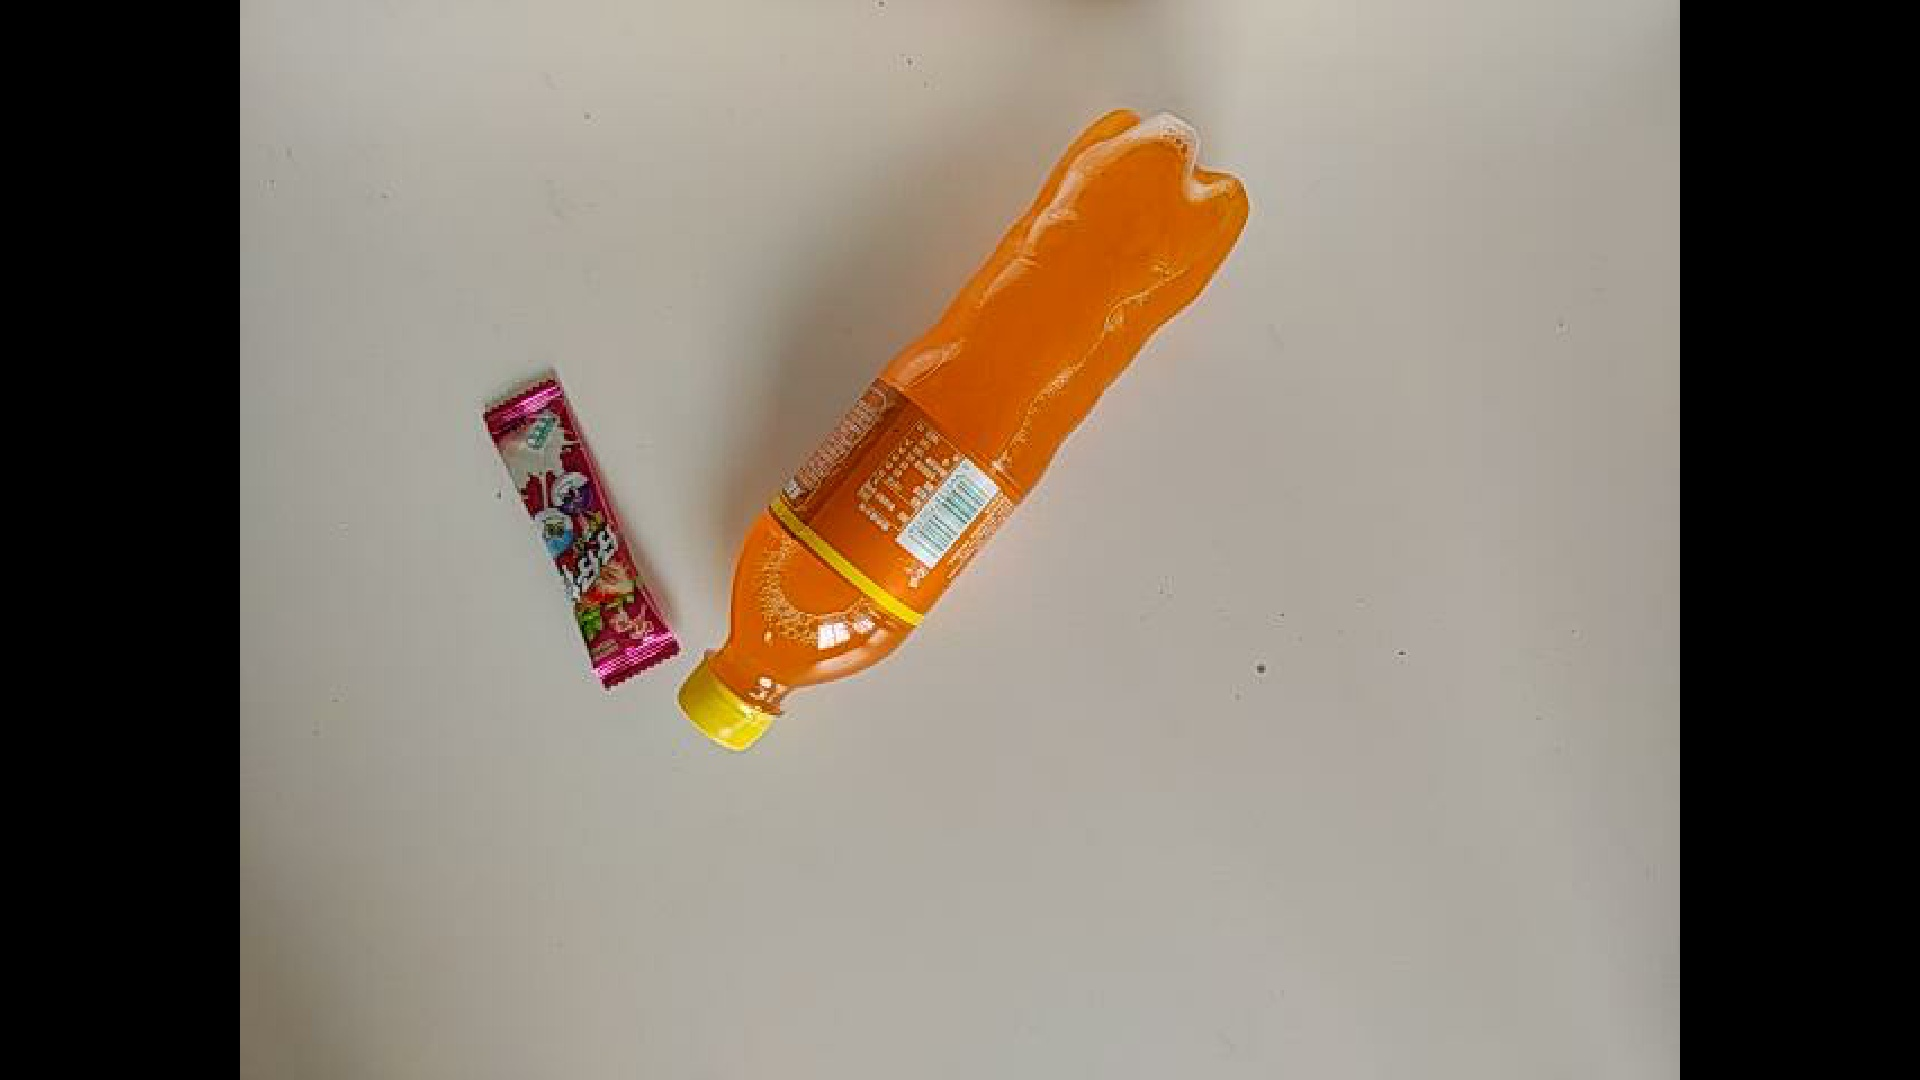fenta: (243, 65, 1282, 749)
sugar: (476, 389, 786, 695)
